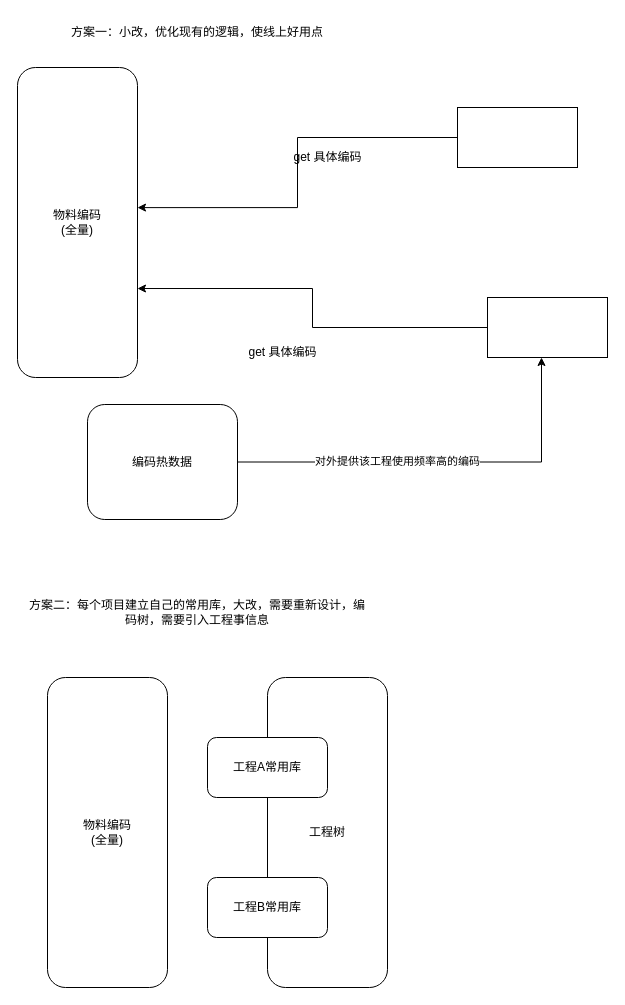
The diagram is 625 pixels wide and 1005 high, and some of its shapes have lost their labels. Here are the shapes that lost their labels. From the top down, the centre of each, then its label:
At point 517,137: "工程 A".
At point 547,327: "工程B".
